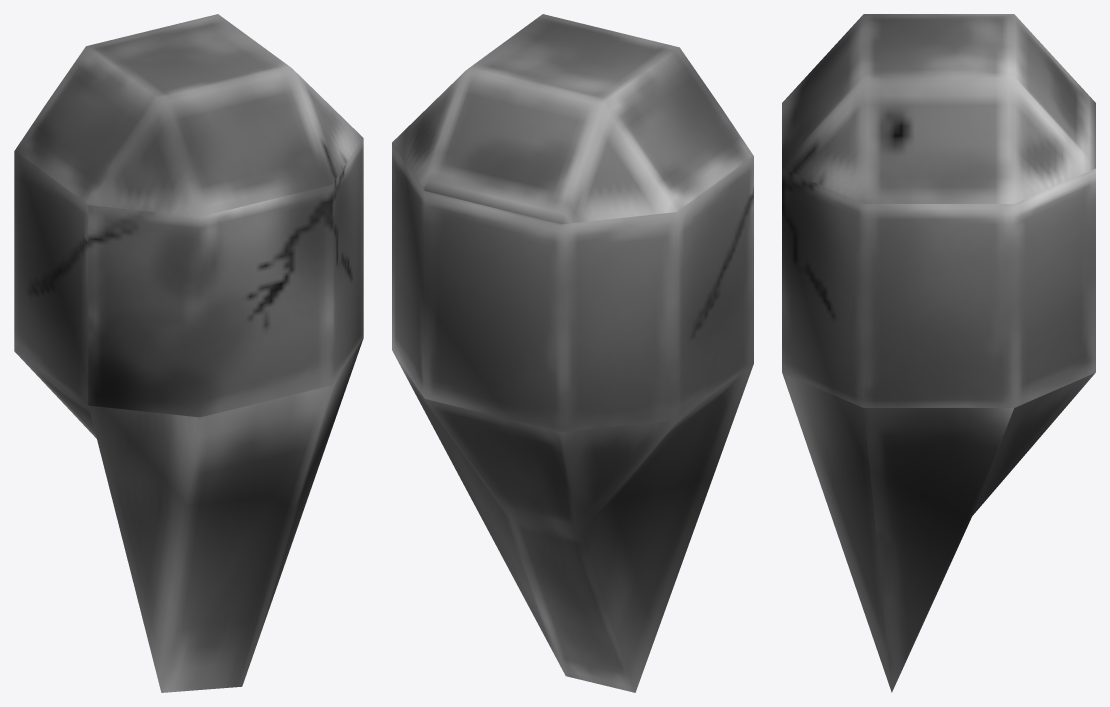
File: SM_Rock_11.fbx
3 renders of one model, left to right at view 1: azimuth 30°, elevation 25°; view 2: azimuth 150°, elevation 25°; view 3: azimuth 270°, elevation 25°, orthographic. The views are drawn at different scales.
Visible parts, largest first — view 1: Roca 11; view 2: Roca 11; view 3: Roca 11.
Part boxes in pixels (x1,y1,x2,y2): Roca 11: (14, 14, 363, 692); Roca 11: (392, 14, 753, 692); Roca 11: (782, 14, 1095, 692).
Bounding box in the file's own units: 3.99 × 8.6 × 3.87.
1 material, 1 textured.
